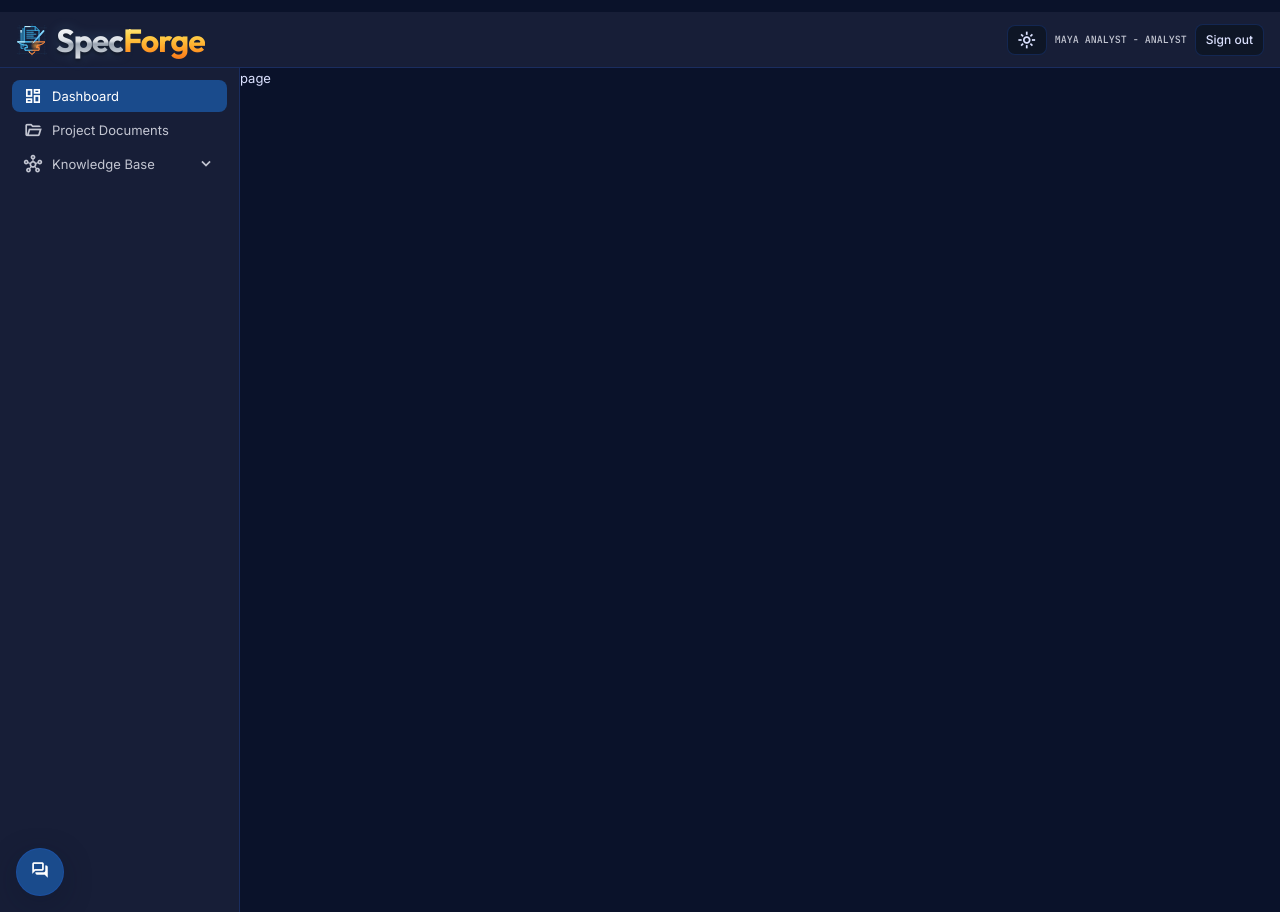
Test: the top bar has no chat icon; chat opens from the floating button
Expected: the button named "Toggle theme" is shown, x1=1007 y1=24 x2=1047 y2=54
Expected: the text "Maya Analyst - Analyst" is shown, x1=1055 y1=30 x2=1187 y2=50
Click the button named "Open chat" at (40, 872), box x1=16 y1=848 x2=64 y2=896
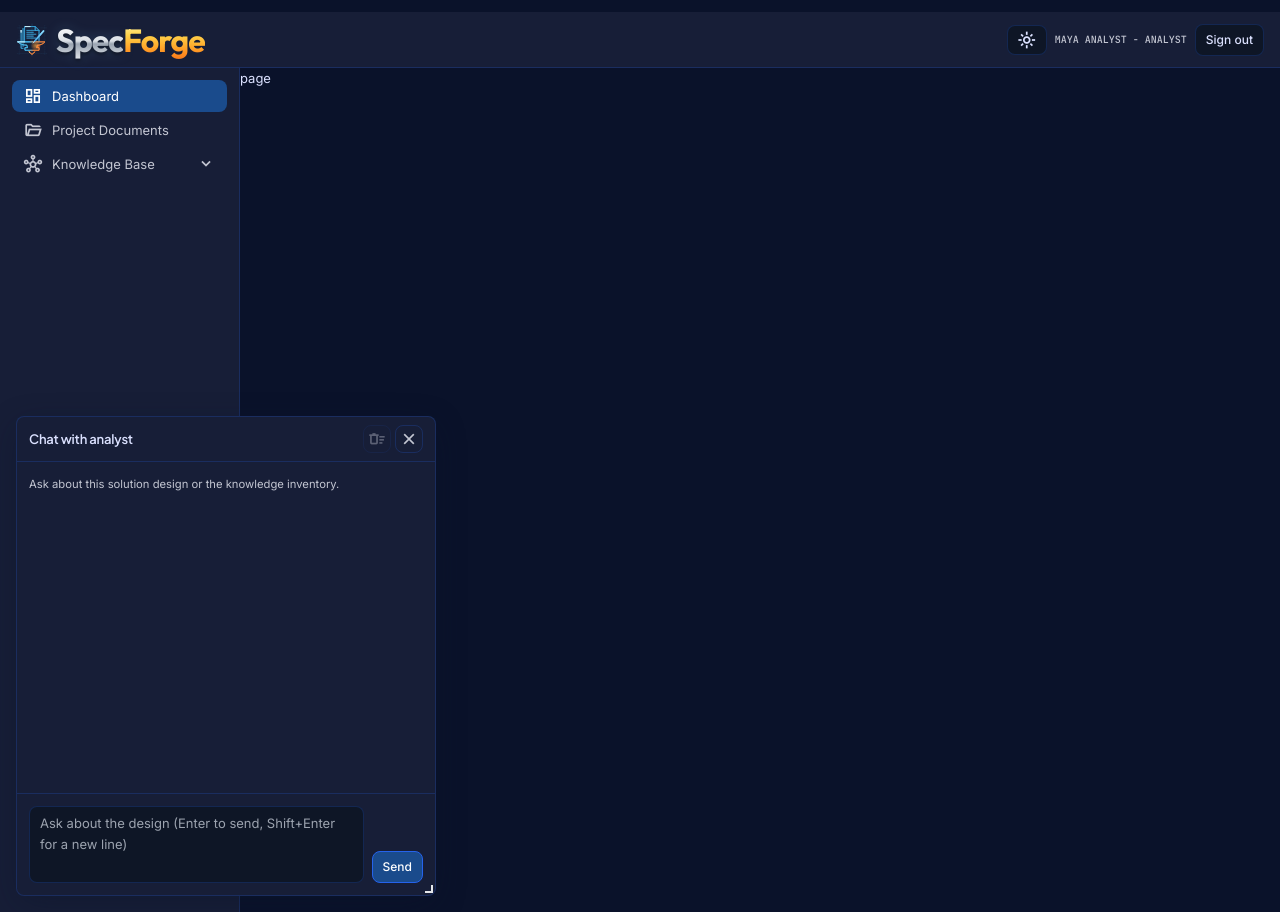
Now the text "Chat with analyst" is shown, box x1=29 y1=429 x2=133 y2=449
